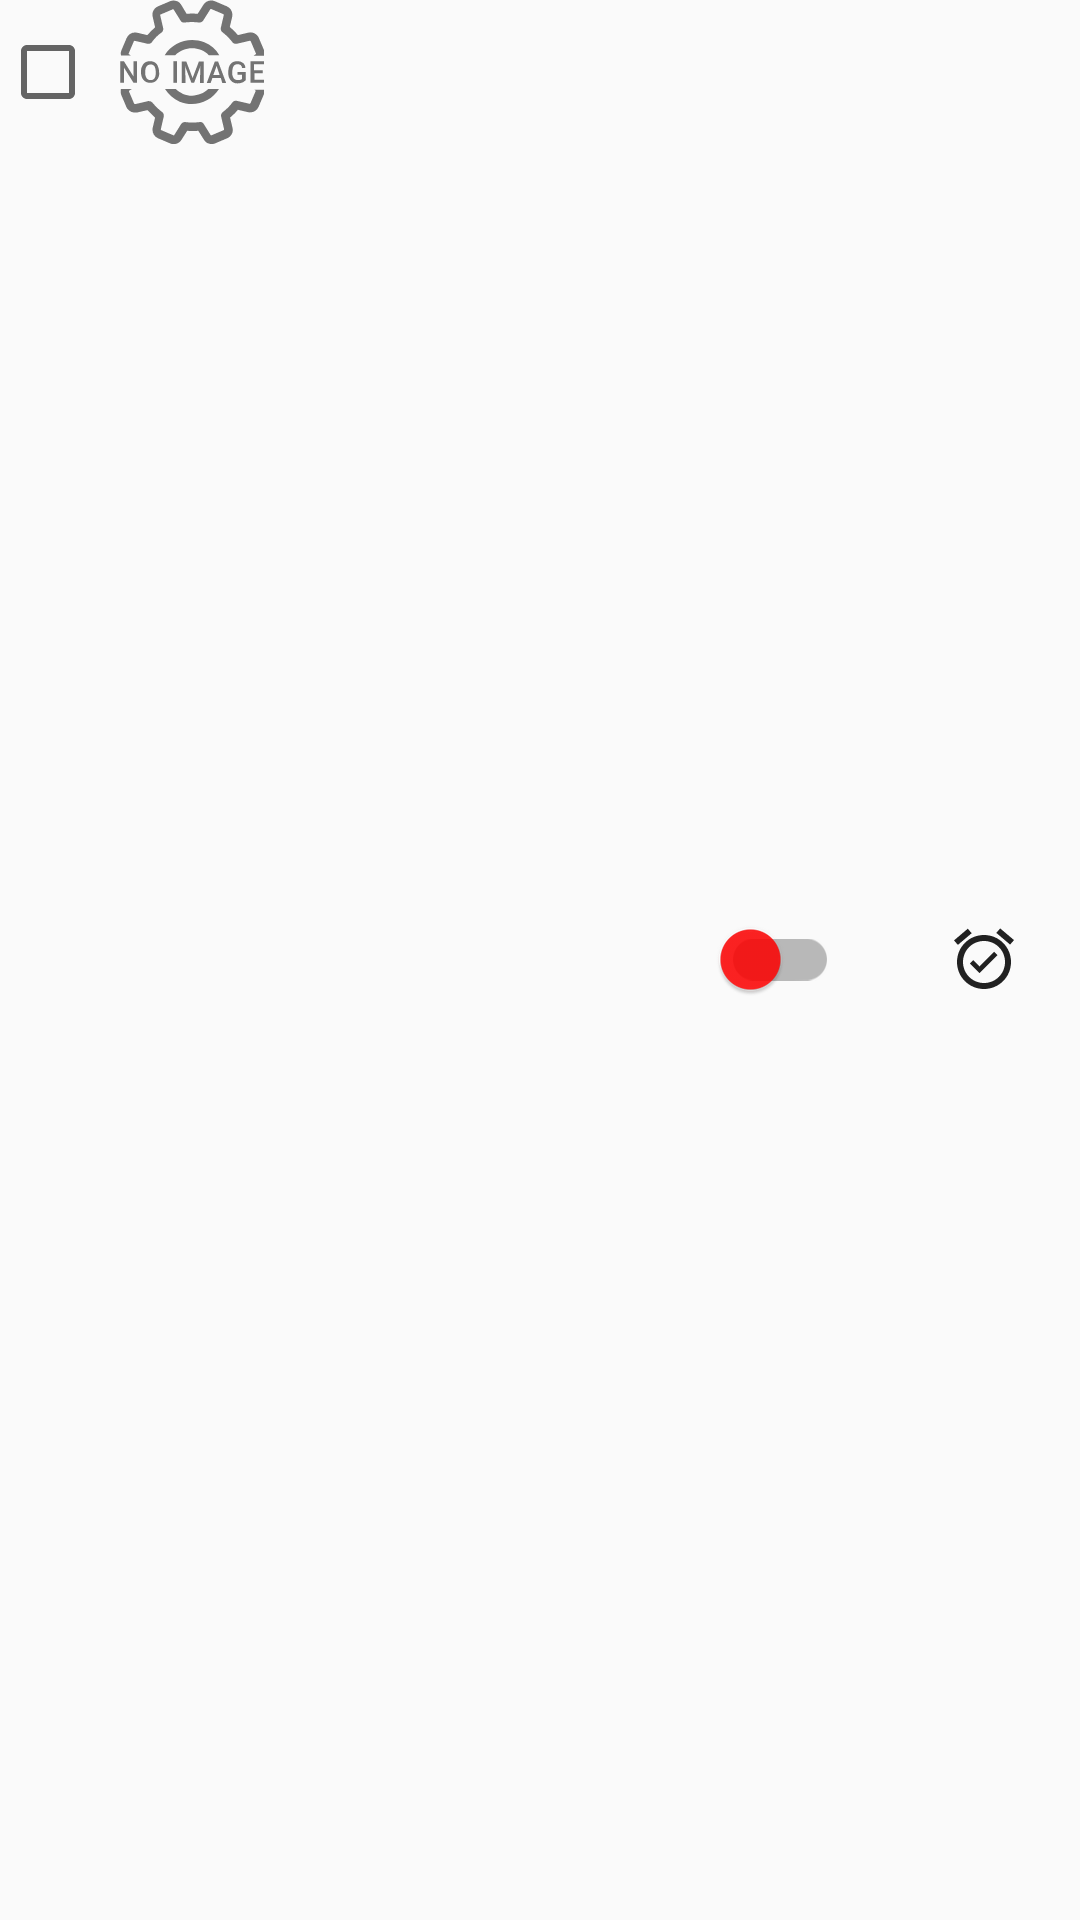

Where icons sit on this 1080px×1920px app screen, as (x1, y1, x2, y2):
alarm activated: (954, 928, 1014, 989)
